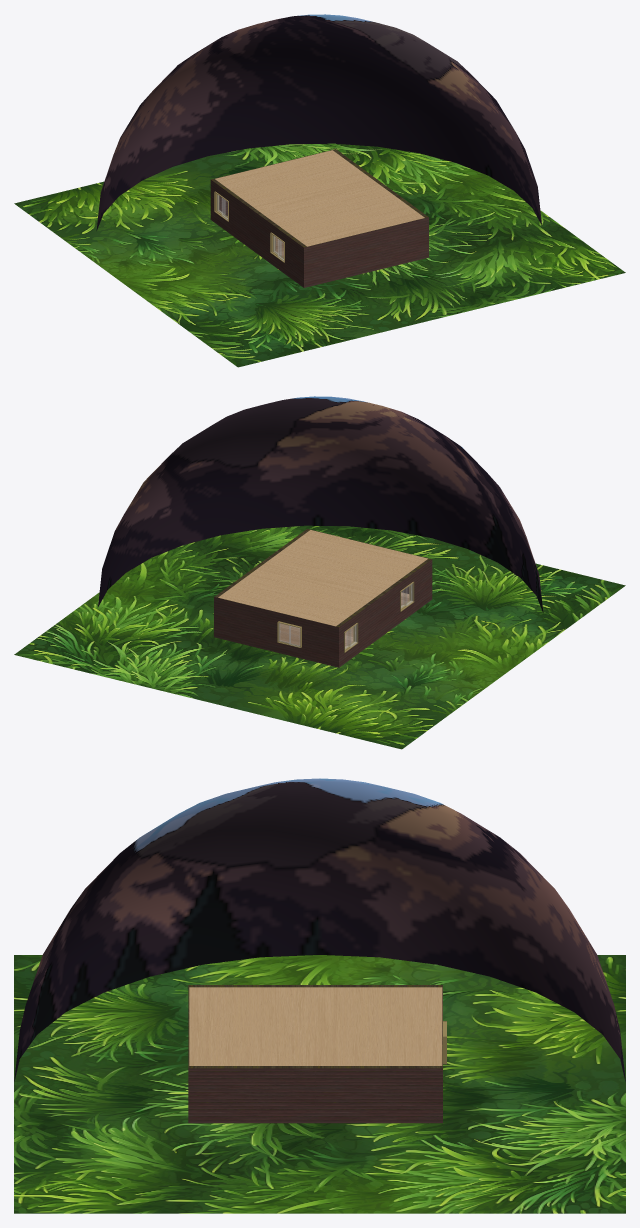
File: stage_model7.gltf
The picture shows the model from 3 angles, top to bottom: view 1: azimuth 30°, elevation 25°; view 2: azimuth 150°, elevation 25°; view 3: azimuth 270°, elevation 25°; orthographic projection. The views are drawn at different scales.
Parts seen in each view (by area): view 1: 球, Ceiling, Room; view 2: 球, Ceiling, Room, Floor.001; view 3: 球, Ceiling, Room.
Boxes of the visible parts, x1=… form: 球: x1=14, y1=14, x2=625, y2=367; Ceiling: x1=215, y1=150, x2=424, y2=246; Room: x1=210, y1=149, x2=428, y2=287; 球: x1=14, y1=396, x2=625, y2=749; Ceiling: x1=218, y1=530, x2=427, y2=626; Room: x1=214, y1=529, x2=432, y2=667; Floor.001: x1=279, y1=592, x2=409, y2=646; 球: x1=14, y1=778, x2=625, y2=1213; Ceiling: x1=189, y1=987, x2=442, y2=1065; Room: x1=188, y1=985, x2=442, y2=1123.
Size of the model in its own units: 400 by 200 by 400.
8 materials, 5 textured.
